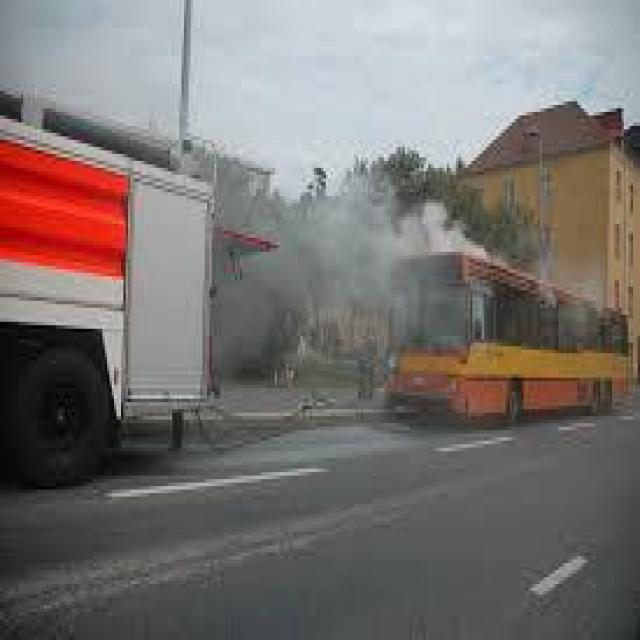smoke: (192, 136, 502, 404)
